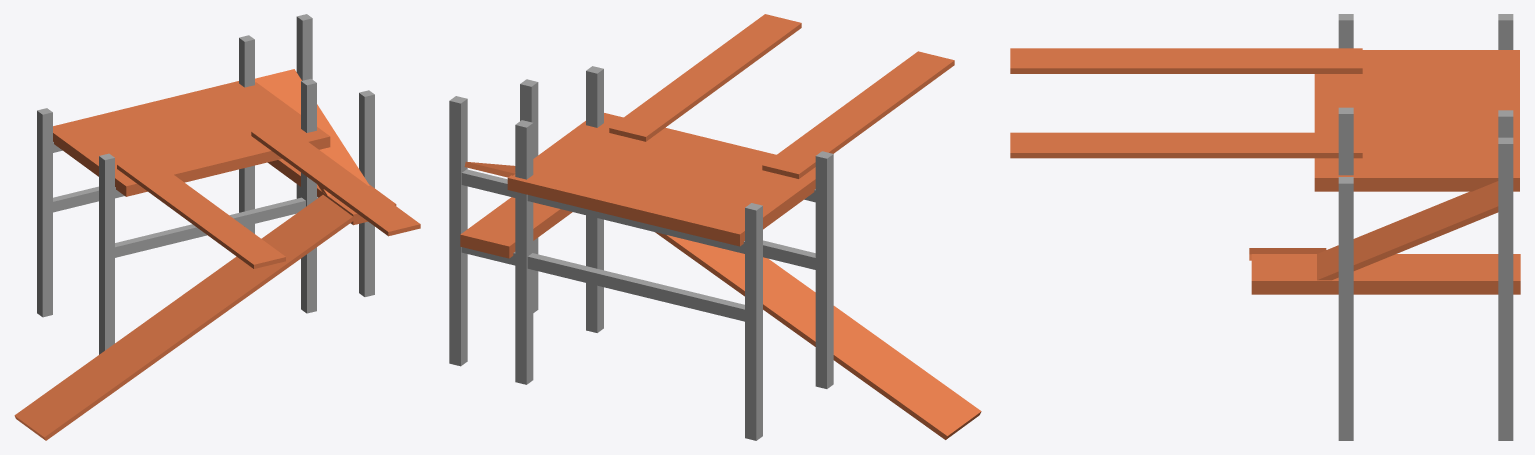
The model's file is AndamioDerecho.fbx.
3 renders of one model, left to right at view 1: azimuth 30°, elevation 25°; view 2: azimuth 150°, elevation 25°; view 3: azimuth 270°, elevation 25°, orthographic. The views are drawn at different scales.
Visible parts, largest first — view 1: Cube.027, Cube.028, Cube.002, Cube.001, Cube.005, Cube.003, Cube.004, Cube.015, Cube.032, Cube.029, Cube.030, Cube.007 (+2 smaller); view 2: Cube.027, Cube.028, Cube.002, Cube.001, Cube.007, Cube.030, Cube.003, Cube.005, Cube.025, Cube.031, Cube.029, Cube.026 (+2 smaller); view 3: Cube.027, Cube.001, Cube.002, Cube.031, Cube.032, Cube.007, Cube.004, Cube.029, Cube.005, Cube.003.
Part boxes in pixels (left/top/right/bottom): Cube.027: left=53, top=81, right=330, bottom=196; Cube.028: left=14, top=195, right=354, bottom=440; Cube.002: left=251, top=124, right=420, bottom=236; Cube.001: left=117, top=157, right=285, bottom=268; Cube.005: left=37, top=108, right=52, bottom=317; Cube.003: left=99, top=153, right=114, bottom=354; Cube.004: left=359, top=90, right=374, bottom=296; Cube.015: left=115, top=197, right=318, bottom=257; Cube.032: left=255, top=69, right=369, bottom=195; Cube.029: left=301, top=78, right=316, bottom=313; Cube.030: left=239, top=35, right=254, bottom=233; Cube.007: left=296, top=14, right=312, bottom=198; Cube.027: left=507, top=113, right=815, bottom=246; Cube.028: left=655, top=232, right=981, bottom=439; Cube.002: left=609, top=14, right=801, bottom=141; Cube.001: left=762, top=51, right=954, bottom=178; Cube.007: left=449, top=96, right=467, bottom=366; Cube.030: left=515, top=120, right=533, bottom=384; Cube.003: left=815, top=151, right=833, bottom=388; Cube.005: left=745, top=203, right=762, bottom=440; Cube.025: left=461, top=247, right=744, bottom=321; Cube.031: left=460, top=197, right=572, bottom=258; Cube.029: left=586, top=66, right=603, bottom=332; Cube.026: left=461, top=169, right=744, bottom=253; Cube.027: left=1314, top=50, right=1519, bottom=191; Cube.001: left=1010, top=48, right=1362, bottom=73; Cube.002: left=1010, top=132, right=1362, bottom=158; Cube.031: left=1251, top=254, right=1520, bottom=294; Cube.032: left=1317, top=181, right=1498, bottom=280; Cube.007: left=1498, top=137, right=1513, bottom=440; Cube.004: left=1338, top=177, right=1353, bottom=440; Cube.029: left=1338, top=107, right=1353, bottom=175; Cube.005: left=1498, top=14, right=1513, bottom=49; Cube.003: left=1338, top=14, right=1353, bottom=48.
Size of the model in its own units: 264 by 181 by 248.
